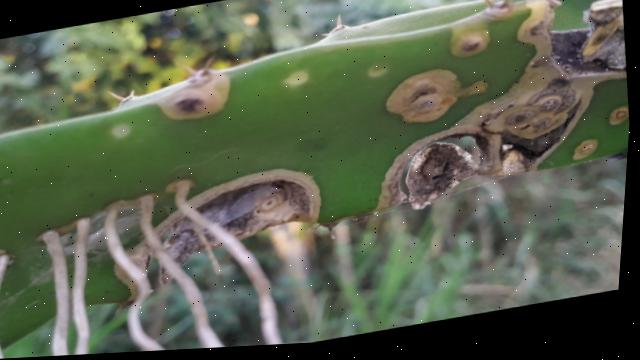stemcanker: (382, 66, 464, 126), (149, 70, 234, 124), (451, 27, 492, 58), (572, 137, 600, 162), (607, 104, 630, 128)
